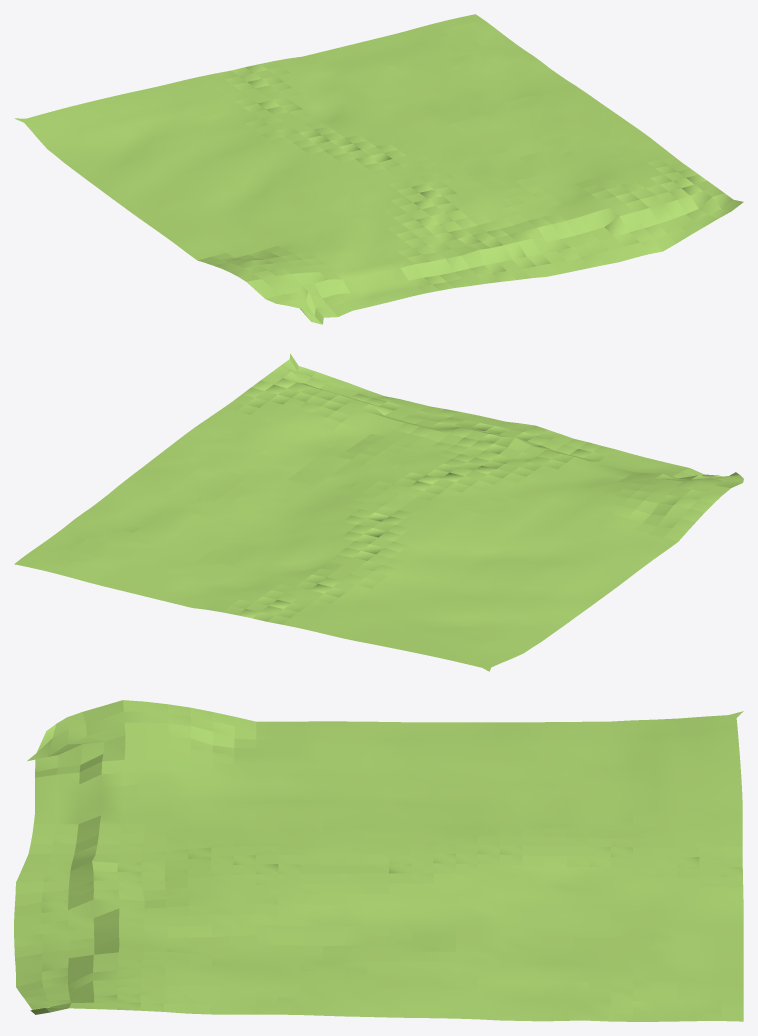
The model's file is lowpolytest.fbx.
3 views of the same model, one above another, from view 1: azimuth 30°, elevation 25°; view 2: azimuth 150°, elevation 25°; view 3: azimuth 270°, elevation 25° (orthographic). The views are drawn at different scales.
Parts seen in each view (by area): view 1: LowpolyTerrain; view 2: LowpolyTerrain; view 3: LowpolyTerrain.
Boxes of the visible parts, <box> form: LowpolyTerrain: <box>14,14,743,324</box>; LowpolyTerrain: <box>14,353,743,671</box>; LowpolyTerrain: <box>14,700,743,1021</box>.
Bounding box in the file's own units: 8028 × 533 × 8244.
